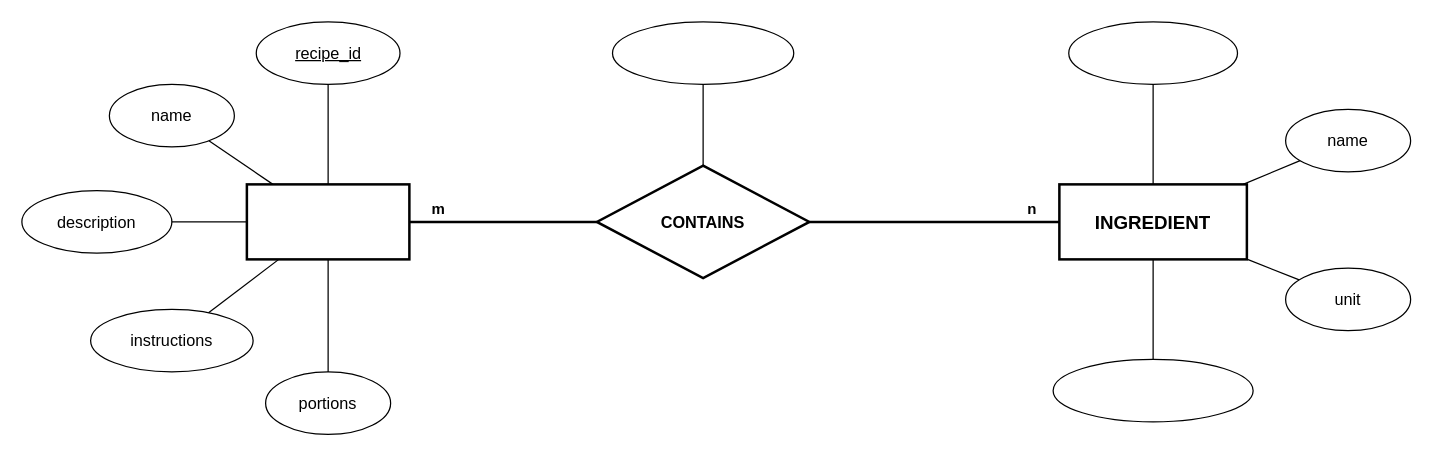
Image size: 1433x456. Some labels were removed from this diagram. Here are the shapes that lost their labels. From the top down, the centre of each, then its label:
At [702,52]: "required_amount".
At [1153,52]: "ingredient_id".
At [327,221]: "RECIPE".
At [1152,390]: "available_amount".
